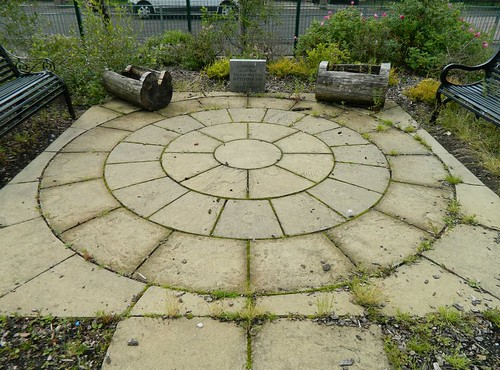bench: (1, 39, 83, 163), (441, 40, 500, 144)
vegetation: (68, 1, 265, 78), (302, 9, 479, 66)
